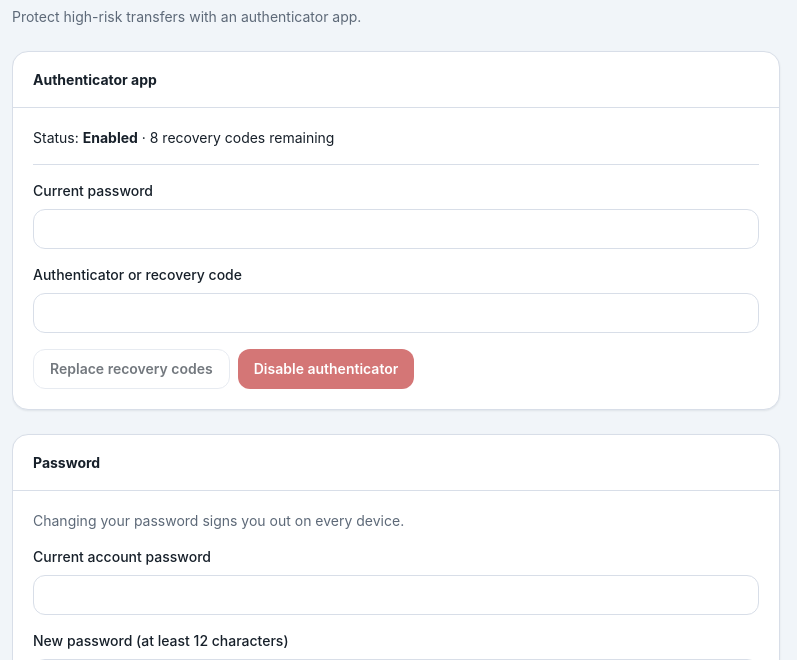
Test case: Security page password change › asks for the authenticator code when MFA is enabled and shows server errors
Type "wrong guess here" into the password field labelled "Current account password" at (396, 595), box x1=33 y1=575 x2=759 y2=615
(page scrolled)
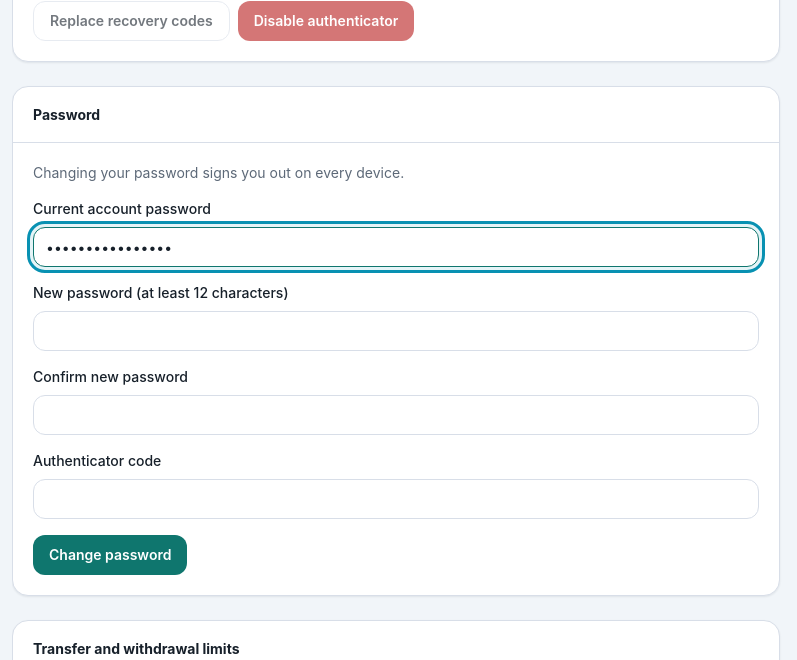
Type "a much longer passphrase" into the password field labelled "New password (at least 12 characters)" at (396, 331), box x1=33 y1=311 x2=759 y2=351
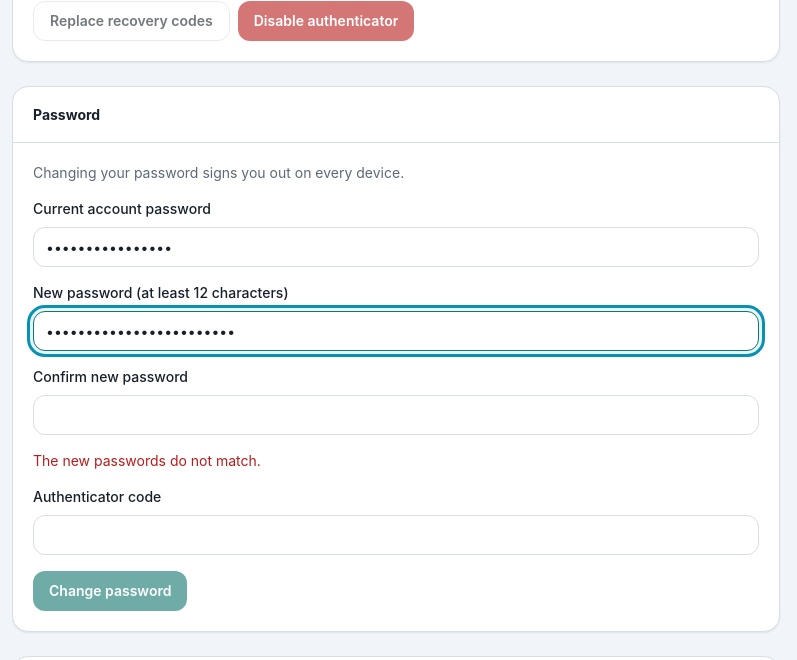
Type "a much longer passphrase" into the password field labelled "Confirm new password" at (396, 415), box x1=33 y1=395 x2=759 y2=435
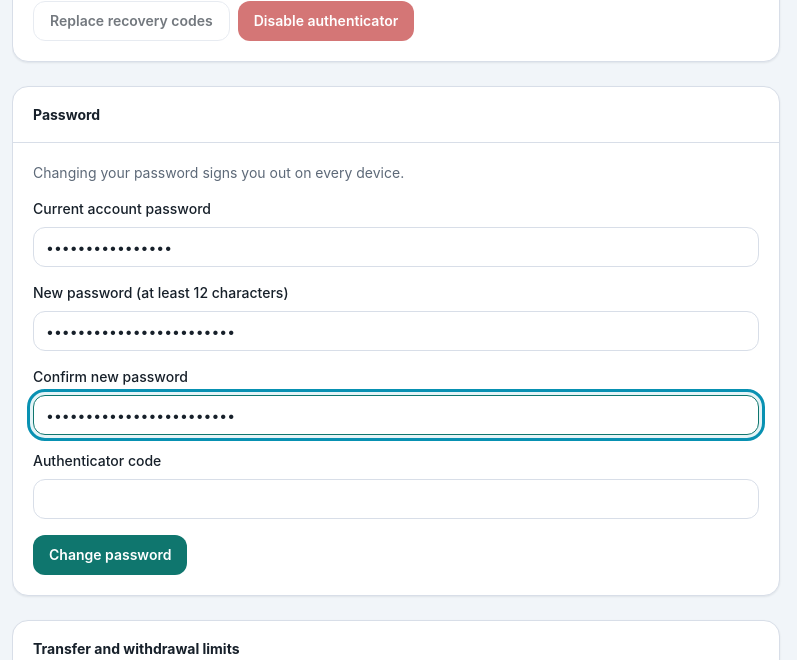
Type "123456" into the field labelled "Authenticator code" at (396, 499), box x1=33 y1=479 x2=759 y2=519
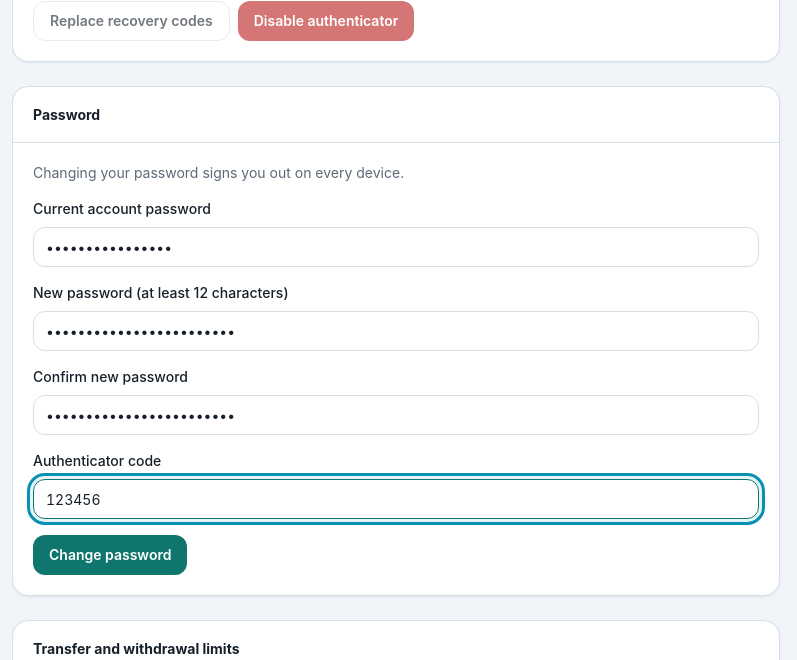
Click the button "Change password" at (110, 555), box x1=33 y1=535 x2=187 y2=575
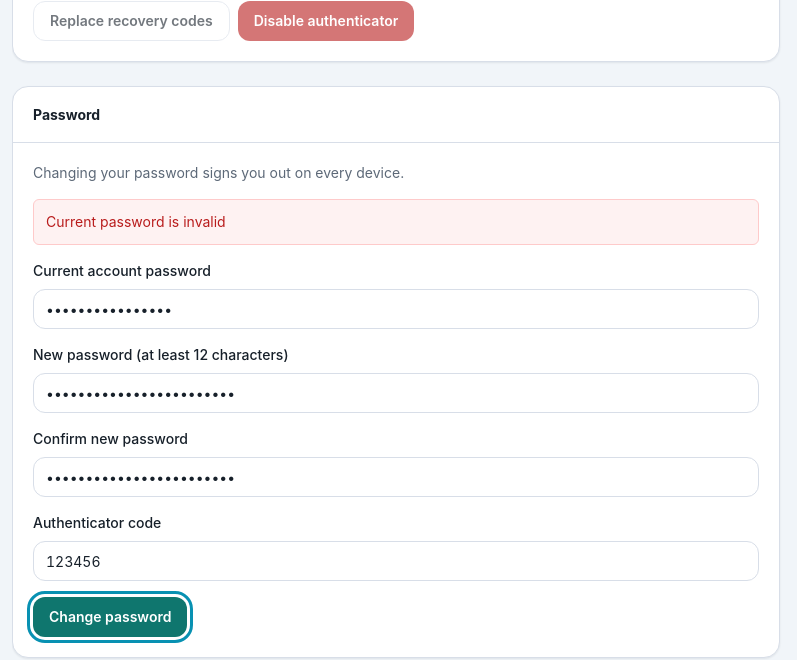
Result: the text "Current password is invalid" is shown at x1=33 y1=199 x2=759 y2=245
